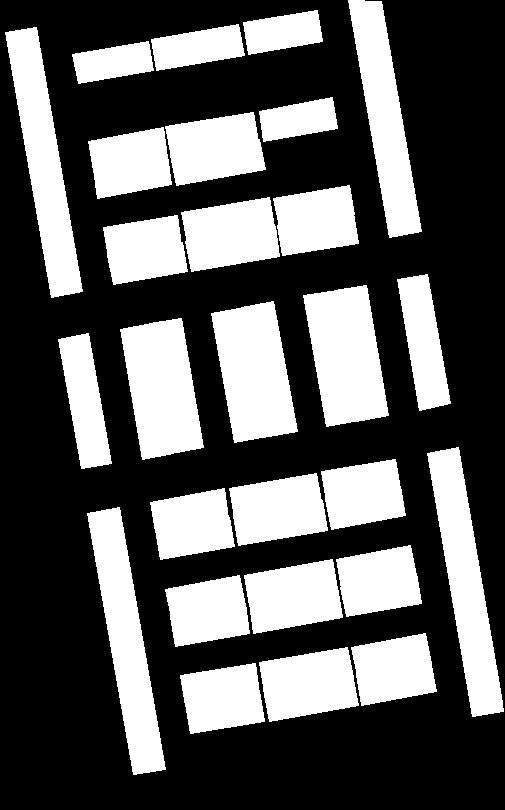parkingspot: (87, 507, 165, 774), (5, 27, 82, 297), (427, 447, 503, 716), (348, 0, 421, 237), (303, 290, 359, 426), (241, 301, 297, 437), (211, 307, 267, 442), (334, 285, 388, 421), (149, 318, 203, 453), (120, 323, 173, 459), (397, 274, 450, 410), (58, 333, 111, 468), (263, 674, 358, 721), (170, 139, 265, 185), (151, 24, 244, 70), (181, 197, 274, 243), (244, 559, 337, 605), (249, 587, 342, 633), (185, 226, 279, 271), (233, 500, 327, 545), (259, 647, 353, 692), (165, 112, 258, 157), (229, 473, 321, 517), (356, 660, 436, 705), (340, 573, 421, 616), (243, 10, 322, 54), (325, 486, 405, 529), (165, 575, 245, 618), (336, 545, 416, 588), (351, 633, 431, 676), (259, 97, 337, 141), (72, 41, 153, 83), (277, 213, 358, 255), (273, 185, 354, 227), (88, 127, 167, 170), (170, 603, 249, 646), (180, 663, 259, 706), (185, 690, 264, 733), (107, 242, 187, 284), (93, 155, 171, 198), (150, 488, 228, 531), (321, 459, 400, 501), (155, 517, 234, 559), (103, 215, 181, 257)
